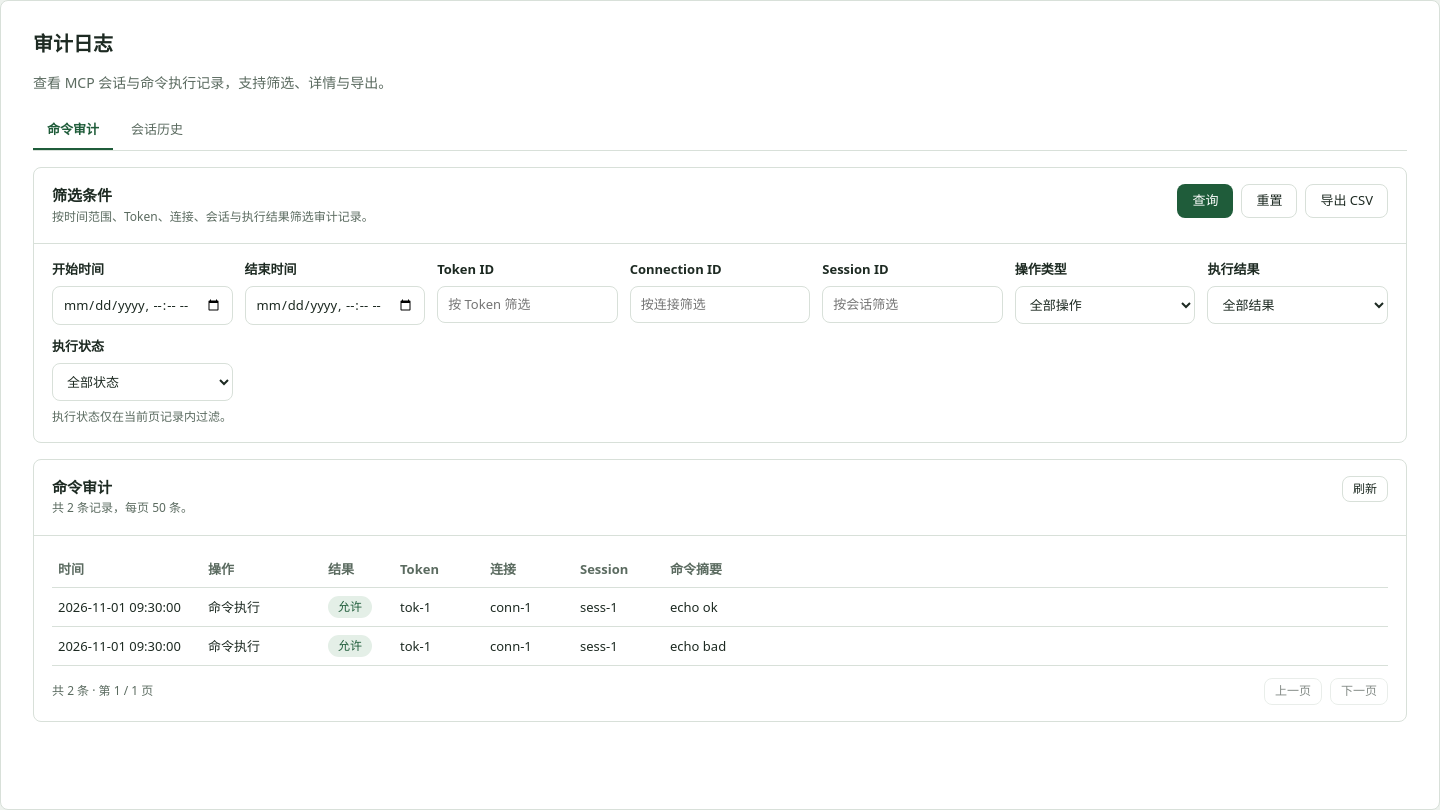
Test: AuditPage 筛选 › 执行状态下拉只在当前页记录内过滤
The width and height of the screenshot is (1440, 810).
Expected: the text "echo ok" is shown, [670,598,718,616]
Select "执行失败" in the dropdown labelled "执行状态" at (142, 382), box [52,363,233,401]
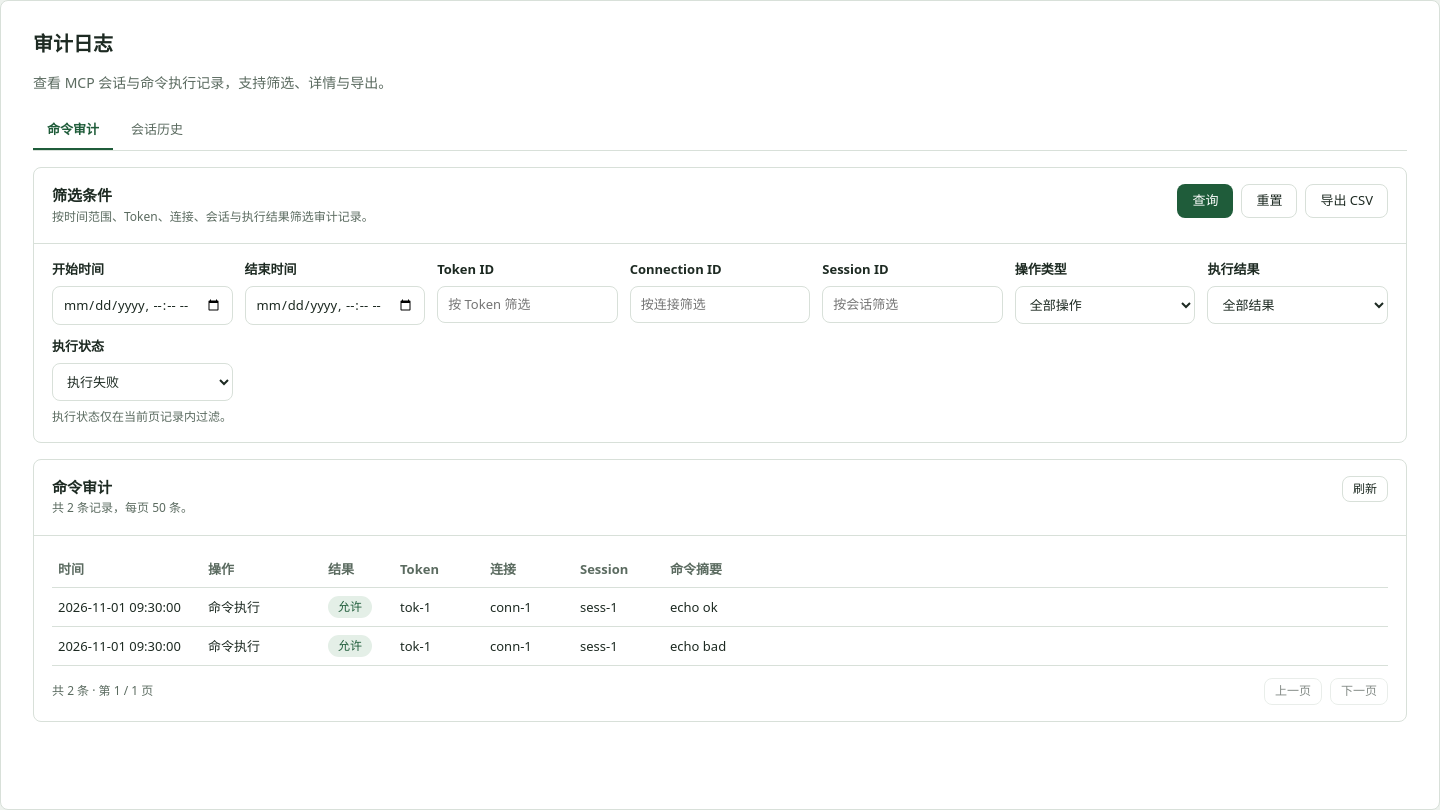
Click the button "查询" at (1205, 201), box [1177,184,1233,218]
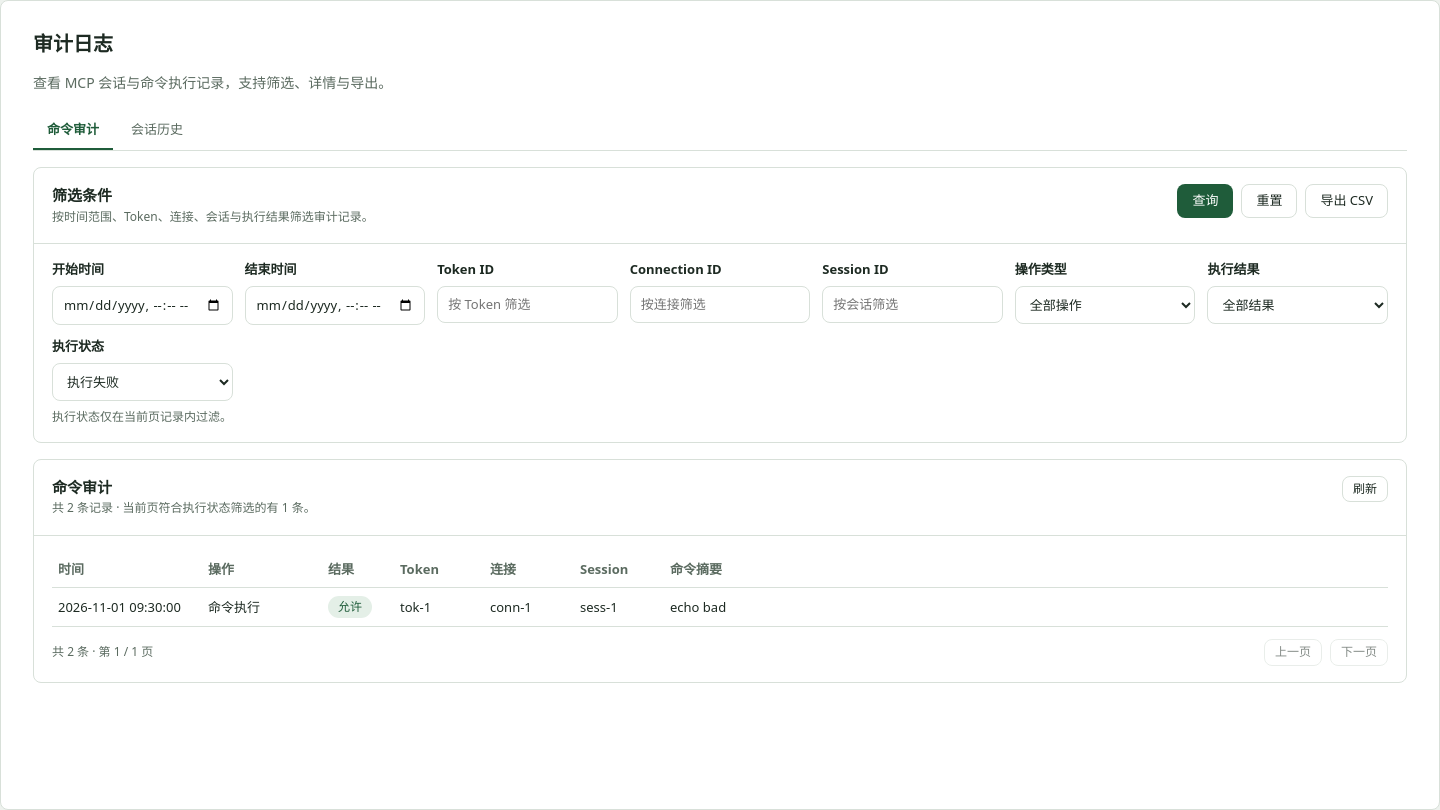
Expected: the text "echo bad" is shown, [670,598,726,616]
Now the text "echo ok" is gone
